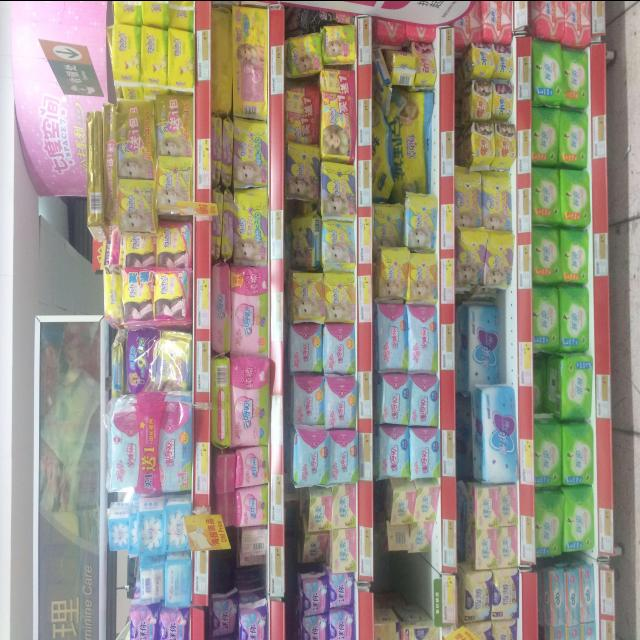empty_space: (385, 559, 433, 609), (232, 567, 264, 592)
